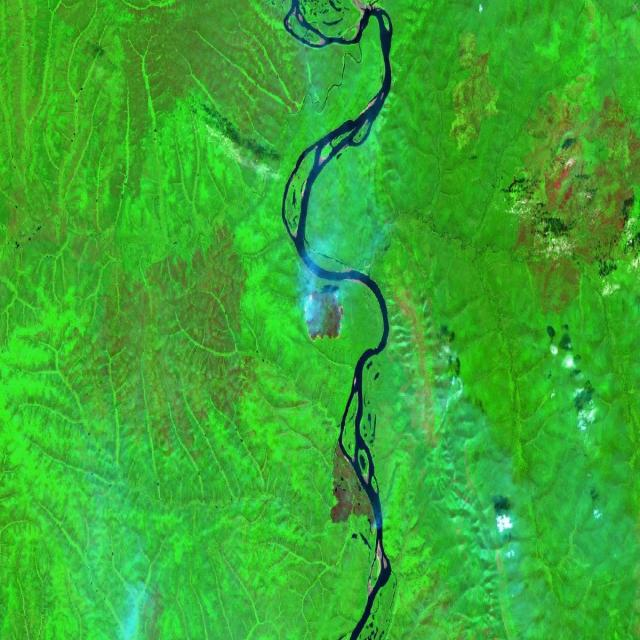fire: (298, 281, 345, 347)
